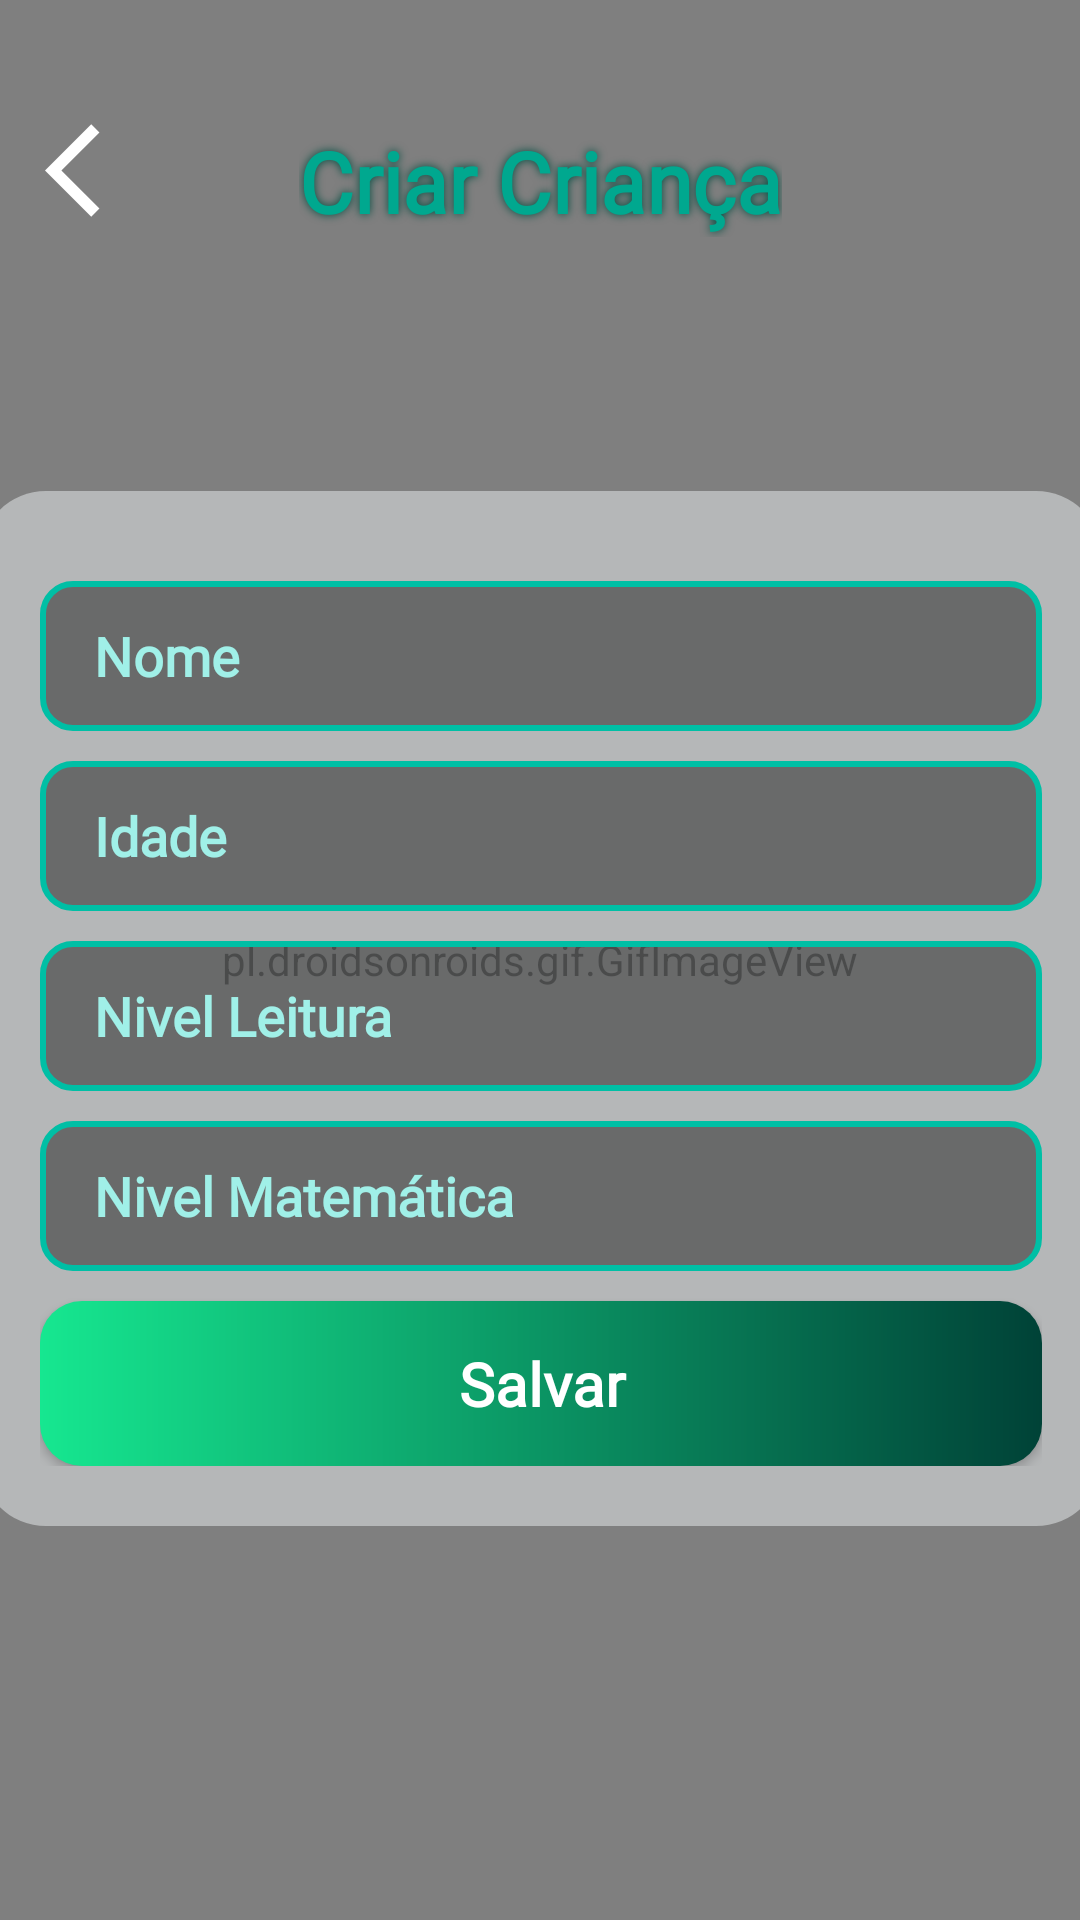

Icons on this 1080×1920 Android screen, each with its box as (x1, y1, x2, y2):
voltar: (45, 124, 99, 217)
